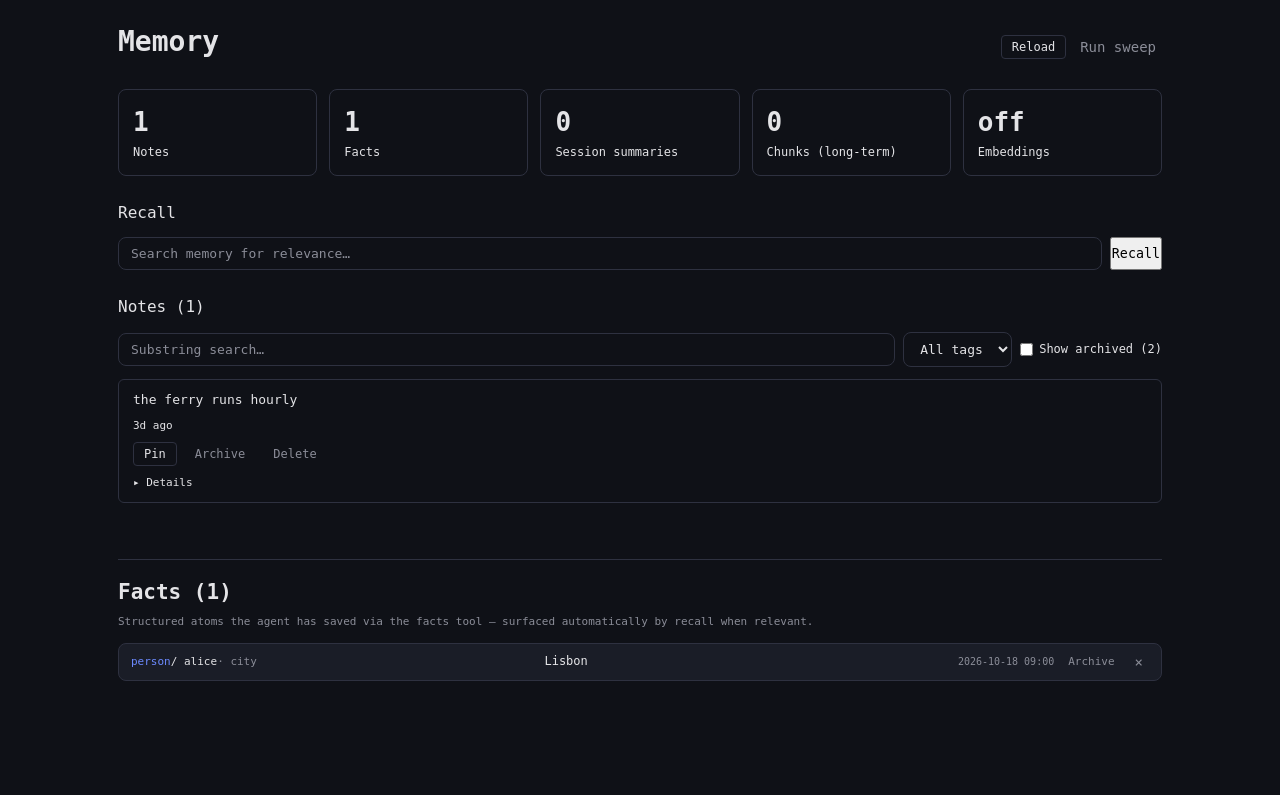
Test case: Memory page archive › hides archived notes until asked, then marks them with when, who and why
Expected: the label with class "memory-archived-toggle" reads "Show archived (2)", [1020, 340, 1162, 359]
Click the checkbox labelled "Show archived (2)": (1027, 349) [1020, 343, 1033, 356]
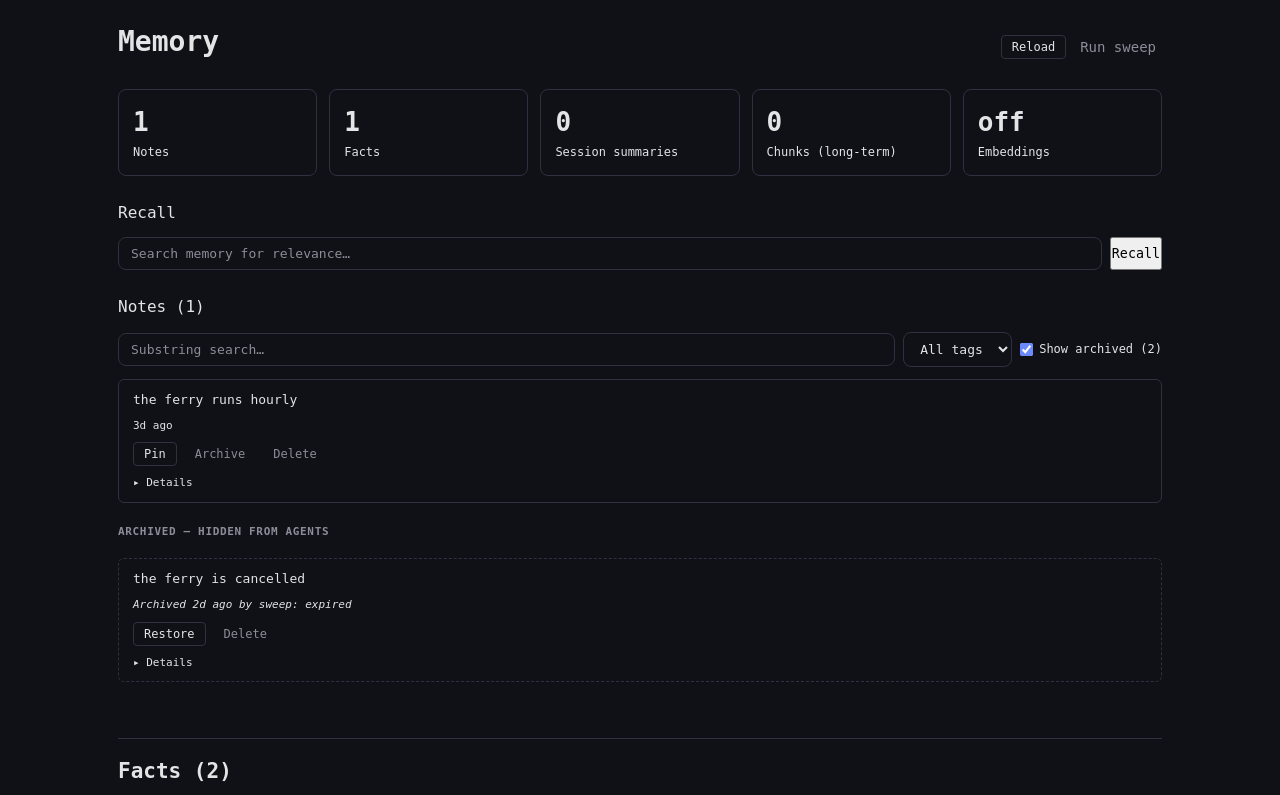
Expected: the list item with class "memory-note" shows "the ferry is cancelled", [133, 571, 305, 586]
Expected: the text with class "memory-archived-stamp" reads "Archived 2d ago by sweep: expired", [133, 596, 352, 614]
Expected: the button "Restore" is shown, [133, 622, 206, 646]
